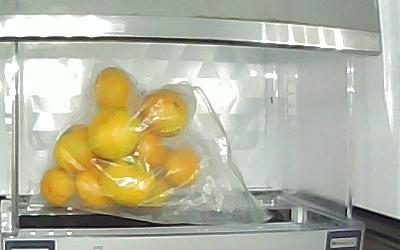tangerine_vinyl: (88, 110, 140, 162), (98, 163, 155, 209), (138, 89, 188, 138), (53, 124, 97, 174), (119, 177, 171, 213), (92, 66, 135, 109), (158, 147, 201, 187), (75, 167, 110, 210), (41, 167, 75, 208), (136, 133, 169, 168)
